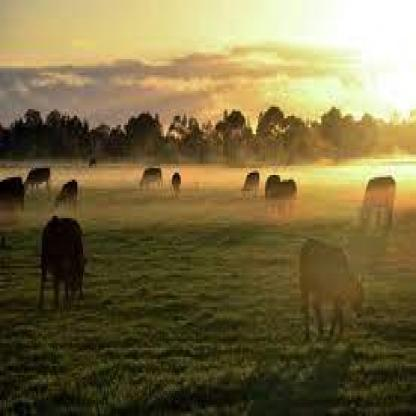cow: (299, 241, 366, 341), (36, 217, 88, 315), (358, 175, 399, 234), (20, 164, 52, 198), (51, 178, 80, 212), (274, 177, 297, 216), (0, 178, 26, 212), (240, 171, 262, 202), (265, 173, 282, 211), (140, 166, 161, 195), (172, 170, 182, 198), (89, 158, 98, 167)
